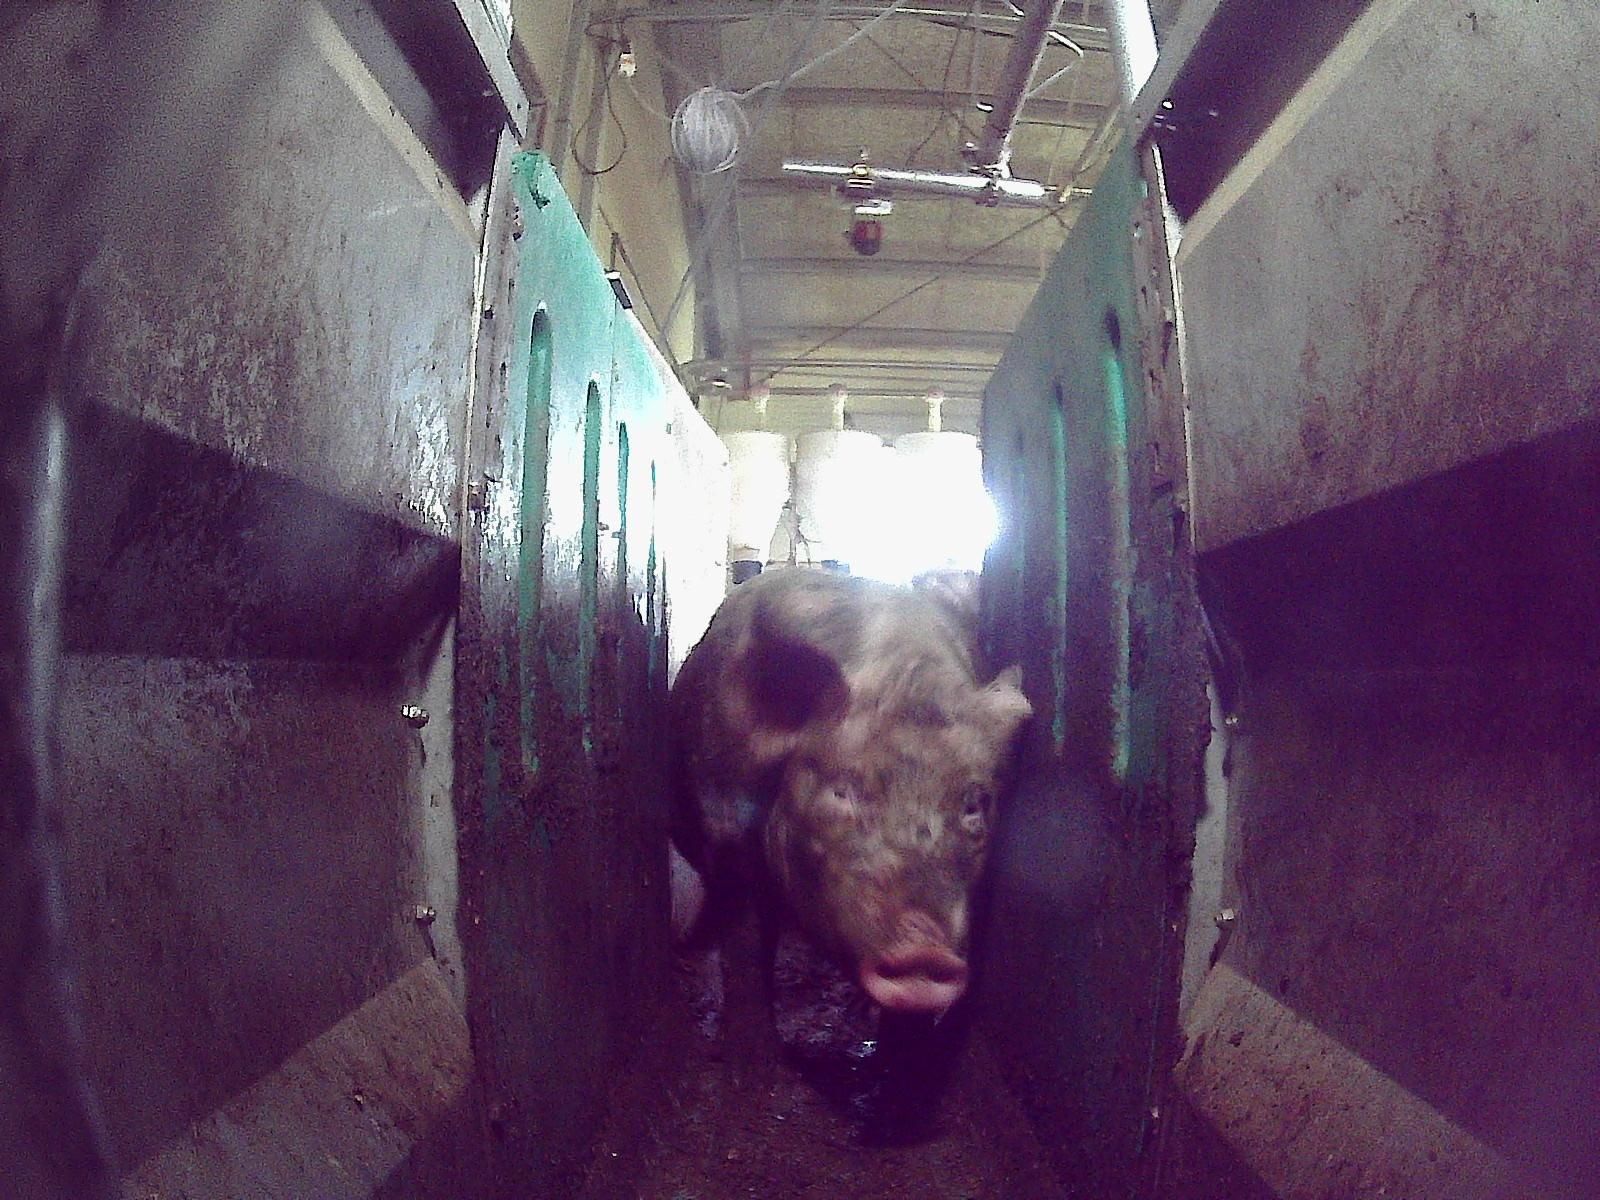Face: (773, 695, 991, 1009)
